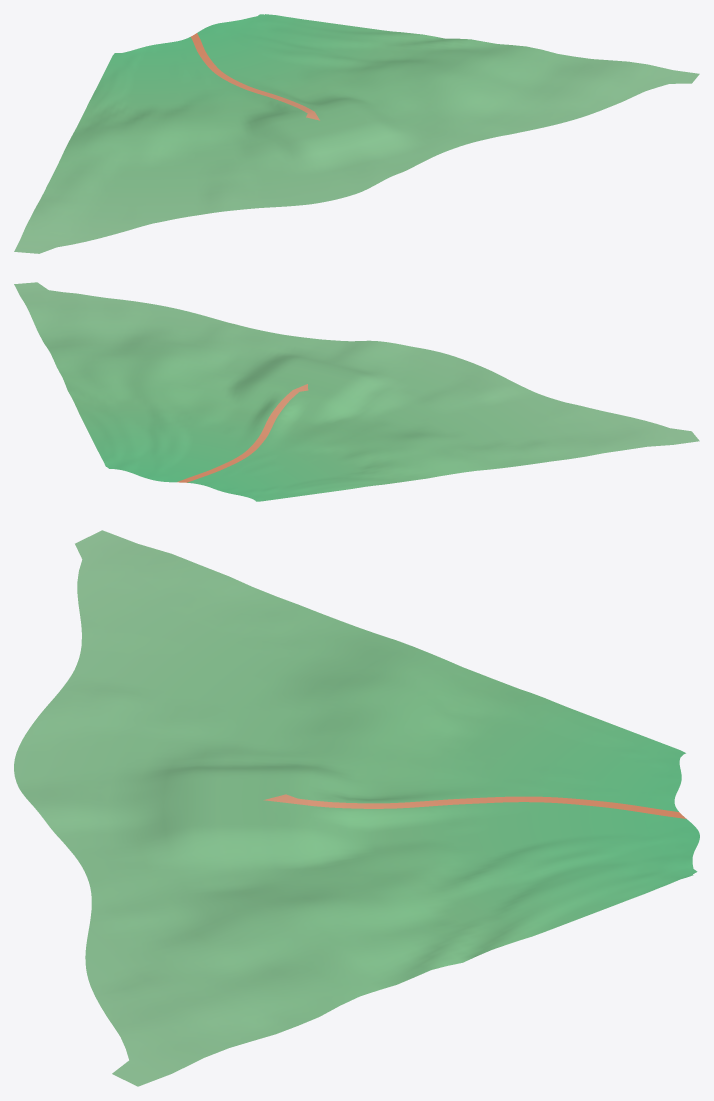
File: terrain_menu_mid.fbx
The picture shows the model from 3 angles, top to bottom: view 1: azimuth 30°, elevation 25°; view 2: azimuth 150°, elevation 25°; view 3: azimuth 270°, elevation 25°; orthographic projection. The views are drawn at different scales.
Parts seen in each view (by area): view 1: terrain_menu_mid; view 2: terrain_menu_mid; view 3: terrain_menu_mid.
Part boxes in pixels (<box>): terrain_menu_mid: <box>14,14,699,253</box>; terrain_menu_mid: <box>14,282,699,501</box>; terrain_menu_mid: <box>14,530,699,1086</box>.
Bounding box in the file's own units: 129 × 1.62 × 67.22.
